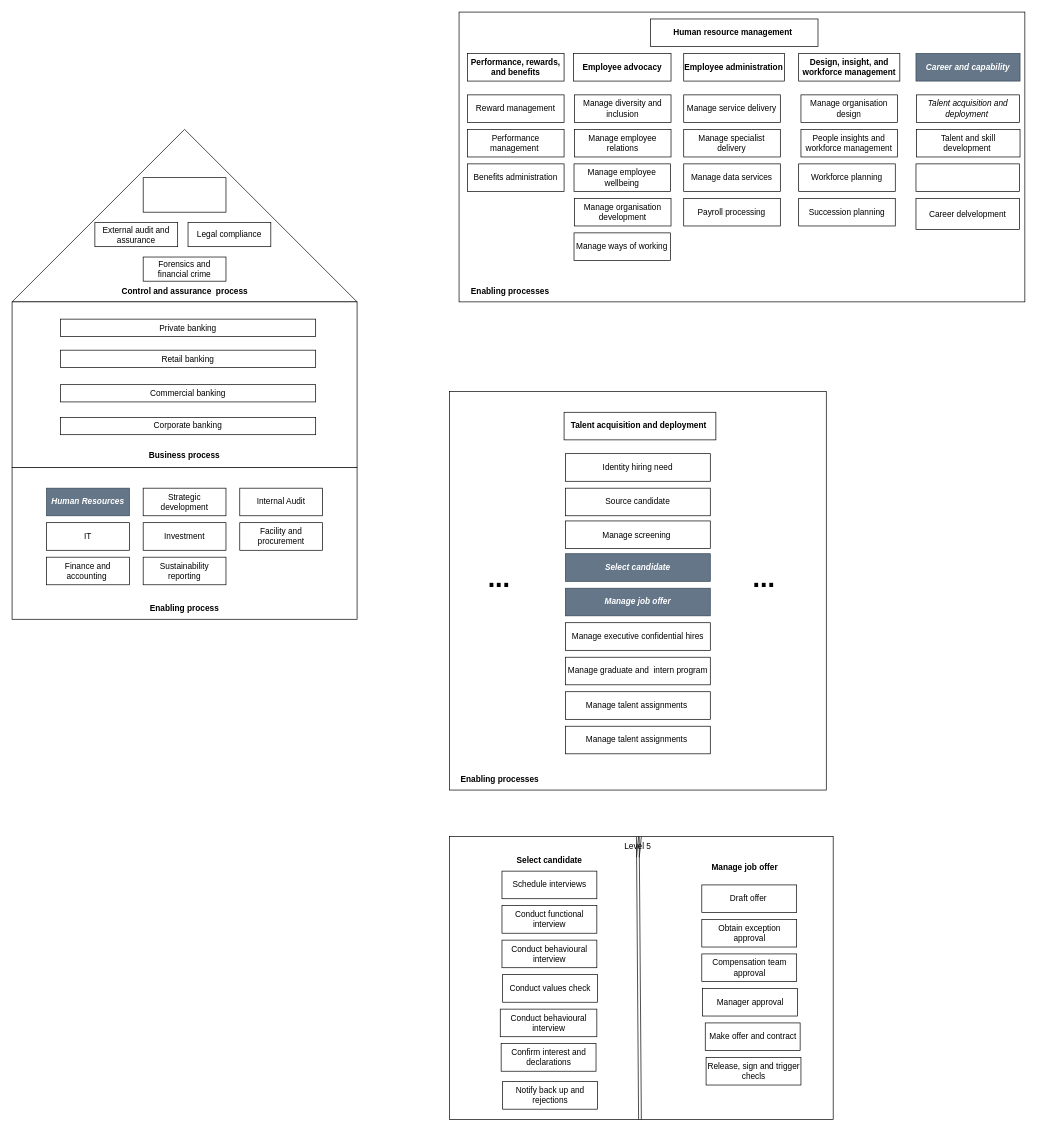
This 1037x1132 diagram has some shape labels left out. Here are the shapes that lost their labels. From the top down, the centre of each, then its label:
[184,194]: Internal risk controls preventive, corrective, detective
[967,177]: Manage picture developments
